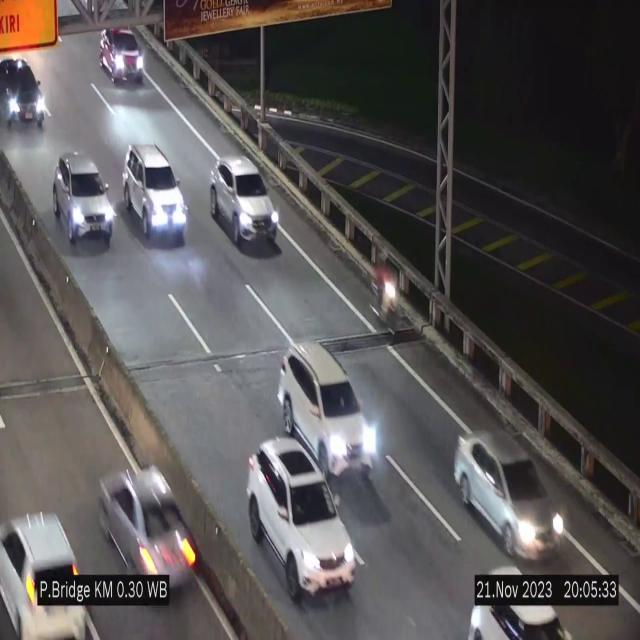Car: (247, 438, 357, 598), (91, 449, 203, 595), (456, 434, 562, 564), (0, 473, 82, 640), (278, 343, 372, 475), (455, 558, 573, 640), (122, 145, 188, 243), (210, 156, 280, 248), (53, 152, 115, 246), (0, 56, 50, 137), (101, 25, 149, 94)
Motorcycle: (369, 238, 401, 348)
